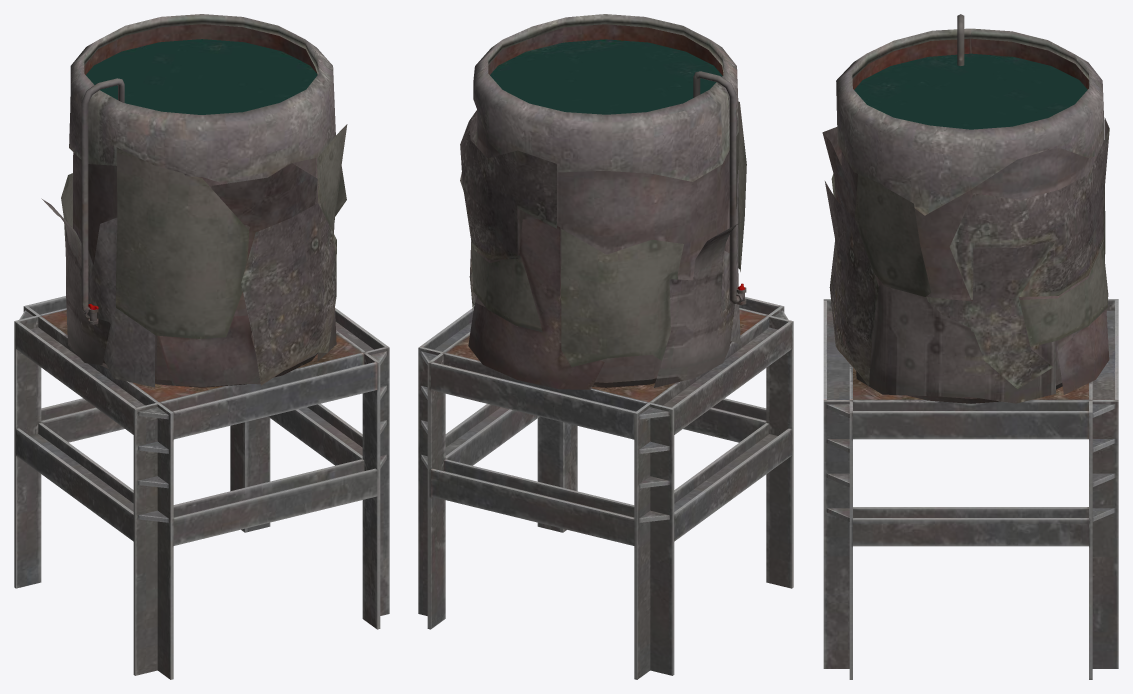
File: water_tank_optimised.glb
The picture shows the model from 3 angles, left to right: view 1: azimuth 30°, elevation 25°; view 2: azimuth 150°, elevation 25°; view 3: azimuth 270°, elevation 25°; orthographic projection.
Parts seen in each view (by area): view 1: WaterTank_Low; view 2: WaterTank_Low; view 3: WaterTank_Low.
Boxes of the visible parts, left/top/right/bottom form: WaterTank_Low: left=14, top=14, right=389, bottom=679; WaterTank_Low: left=418, top=14, right=793, bottom=679; WaterTank_Low: left=822, top=14, right=1118, bottom=679.
Size of the model in its own units: 212 by 412 by 201.
1 material, 1 textured.
